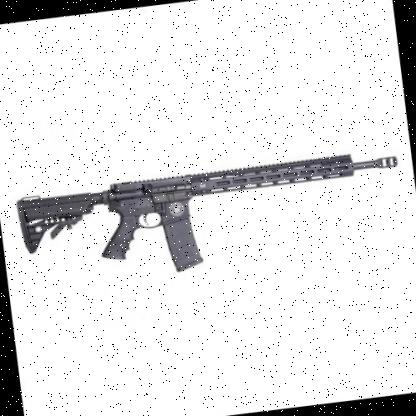rifle: (6, 143, 410, 297)
